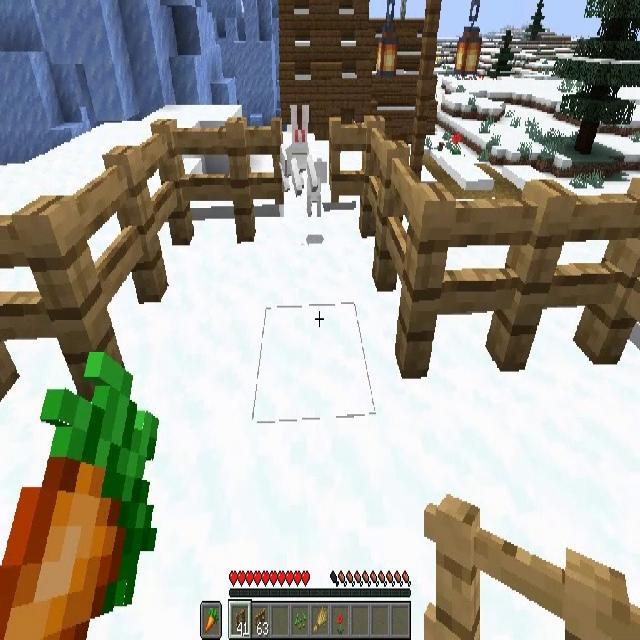duck: (282, 103, 324, 216)
rabbit: (307, 157, 327, 215)
